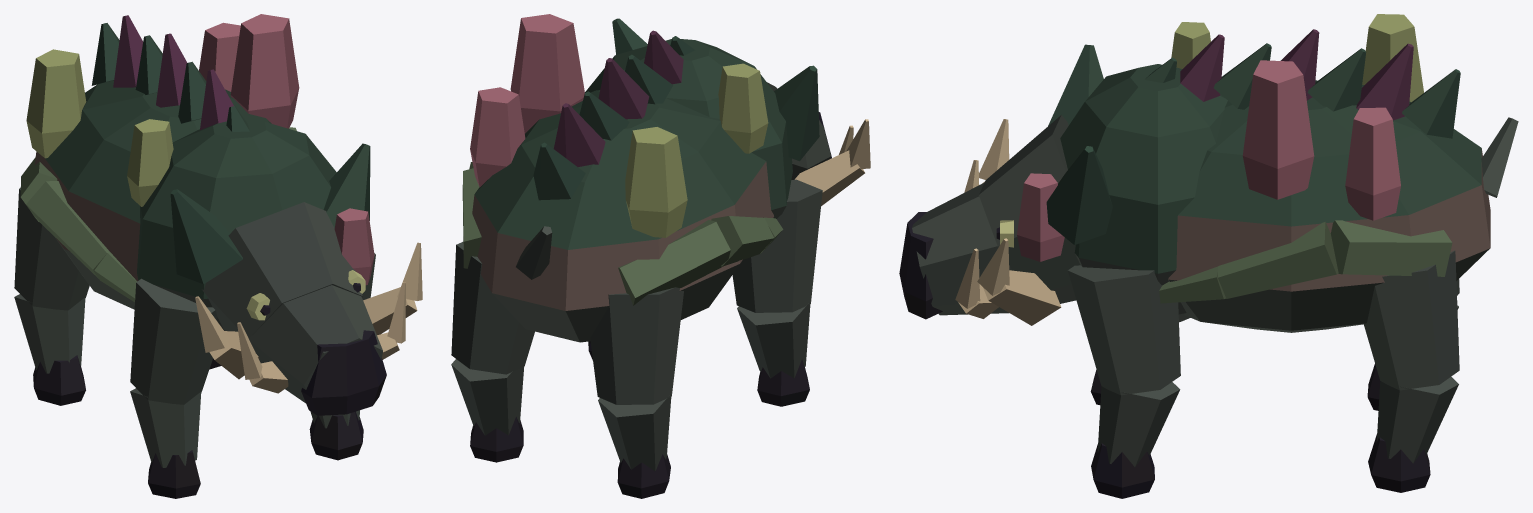
Rendered from rootwood-boar-bloomed.glb.
The picture shows the model from 3 angles, left to right: view 1: azimuth 30°, elevation 25°; view 2: azimuth 150°, elevation 25°; view 3: azimuth 270°, elevation 25°; orthographic projection. The views are drawn at different scales.
Parts seen in each view (by area): view 1: Rootwood boar · bloomed; view 2: Rootwood boar · bloomed; view 3: Rootwood boar · bloomed.
Boxes of the visible parts, box(x1,y1,x2,y2) form: Rootwood boar · bloomed: box(14, 14, 422, 498); Rootwood boar · bloomed: box(451, 14, 870, 498); Rootwood boar · bloomed: box(899, 14, 1518, 498).
Size of the model in its own units: 0.5752 by 0.7661 by 1.03.
